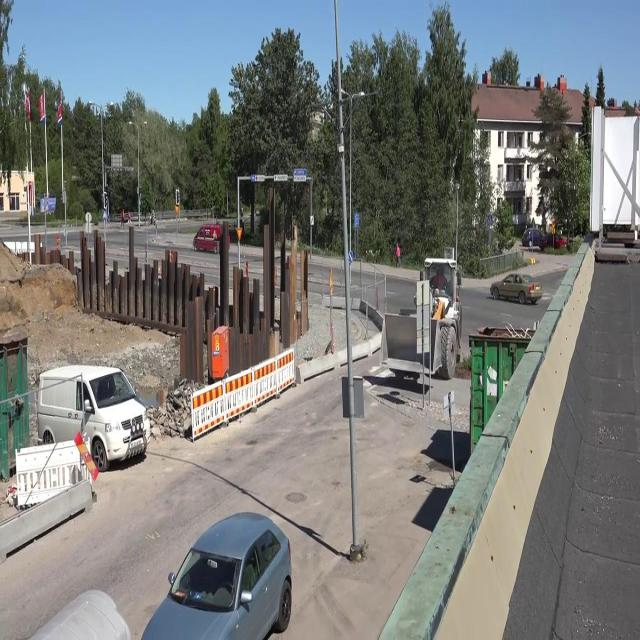buldozerpayloadergrader: (381, 254, 467, 392)
